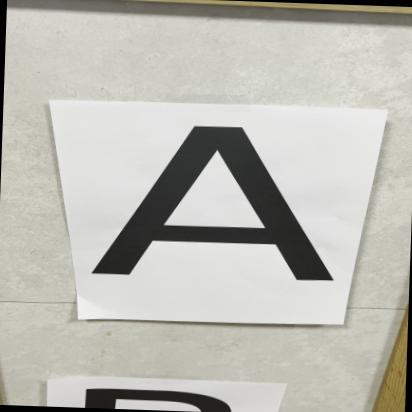seat: (89, 109, 343, 306)
